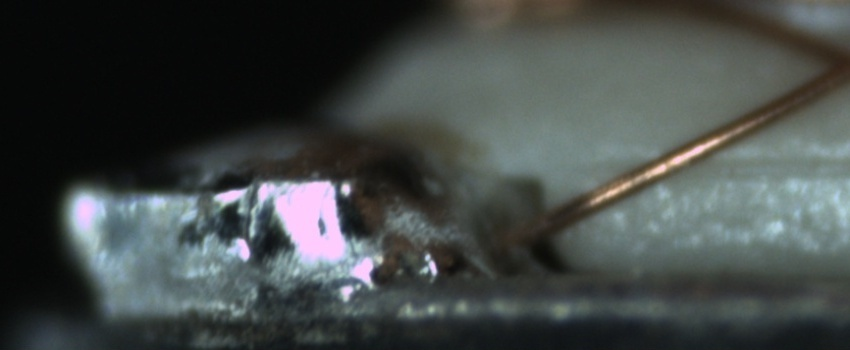CL: (804, 28, 850, 95)
DL: (613, 127, 844, 201)
